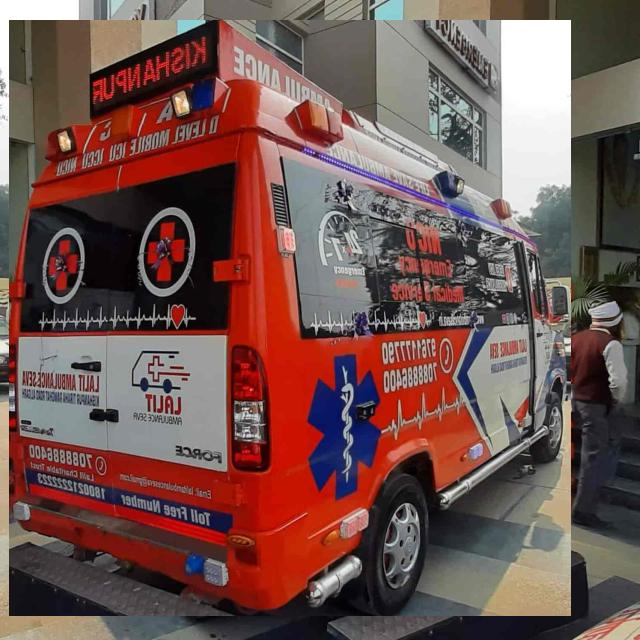emergency: (9, 21, 571, 616)
